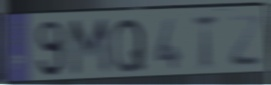4: (153, 16, 182, 72)
9: (35, 19, 67, 79)
M: (67, 16, 112, 79)
Q: (111, 16, 148, 75)
T: (191, 13, 220, 72)
Z: (226, 14, 263, 69)
